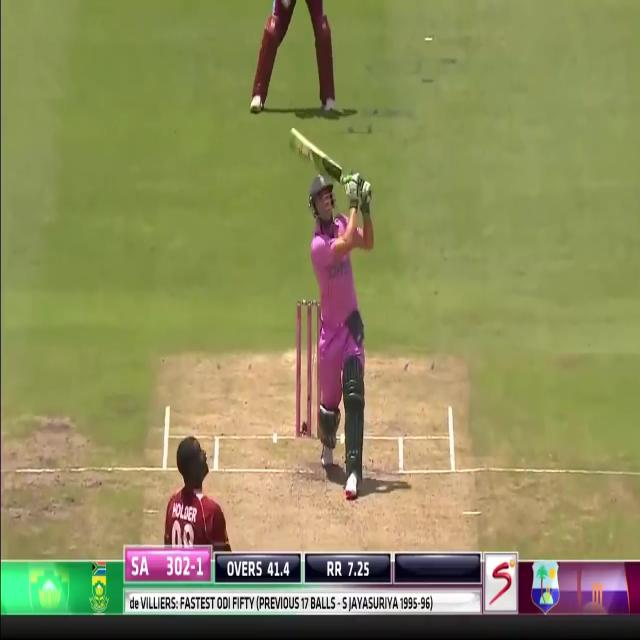Ball: (299, 131, 370, 502)
Fielder: (301, 121, 373, 494), (249, 0, 313, 114), (165, 437, 210, 546)
